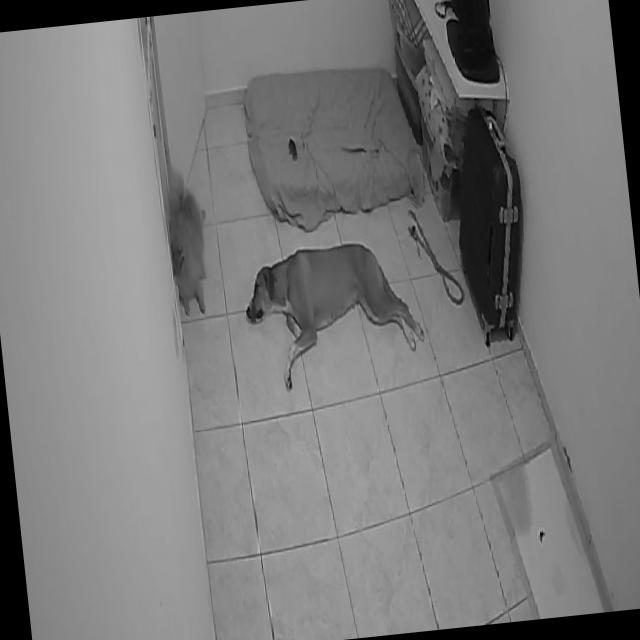laying down: (234, 227, 430, 397), (158, 168, 220, 324)
